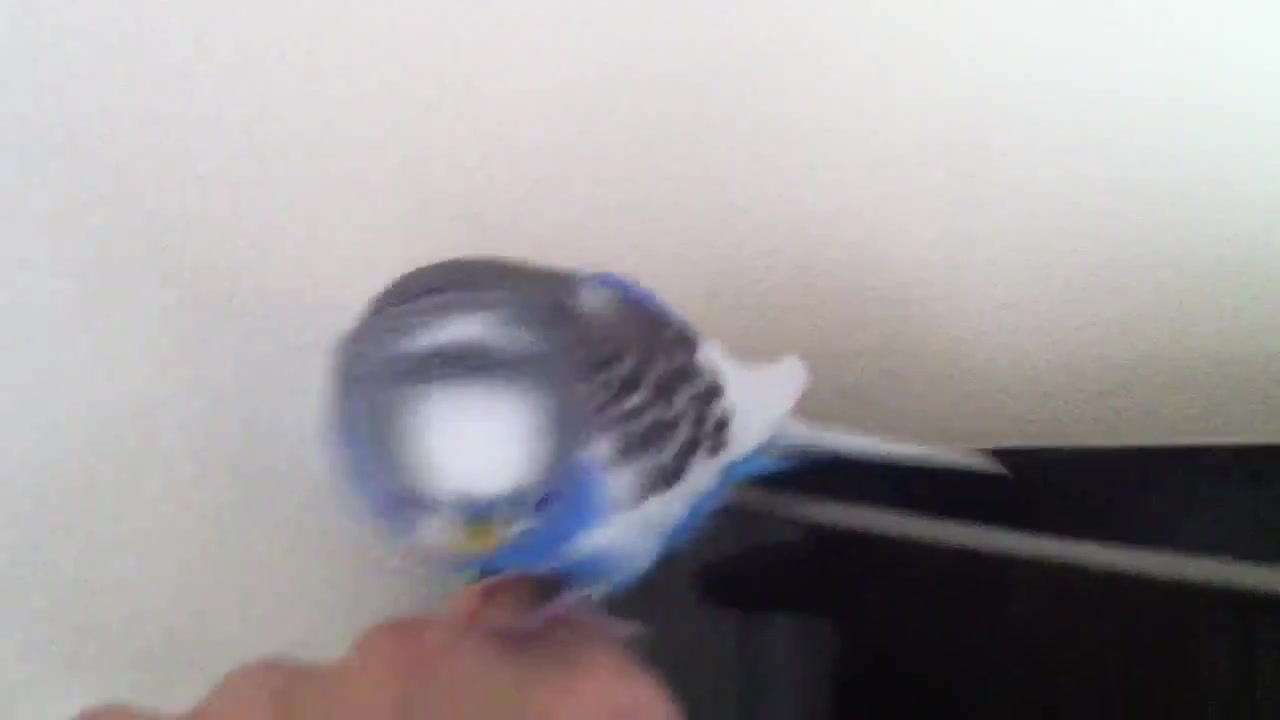bird: (325, 251, 1013, 654)
